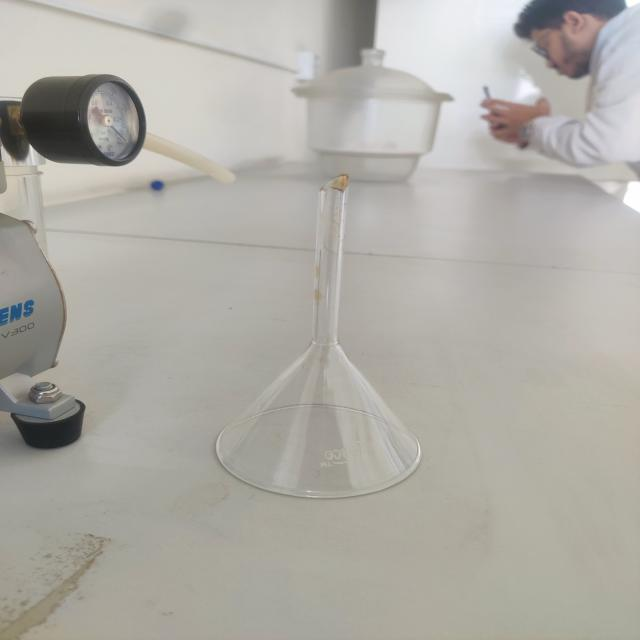Funnel: (190, 154, 451, 524)
